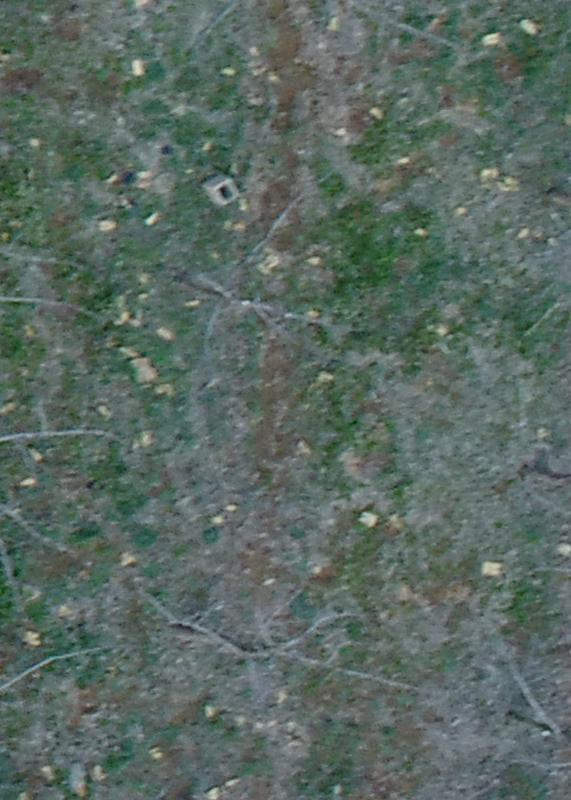apple: (107, 556, 434, 732), (129, 201, 379, 385)
